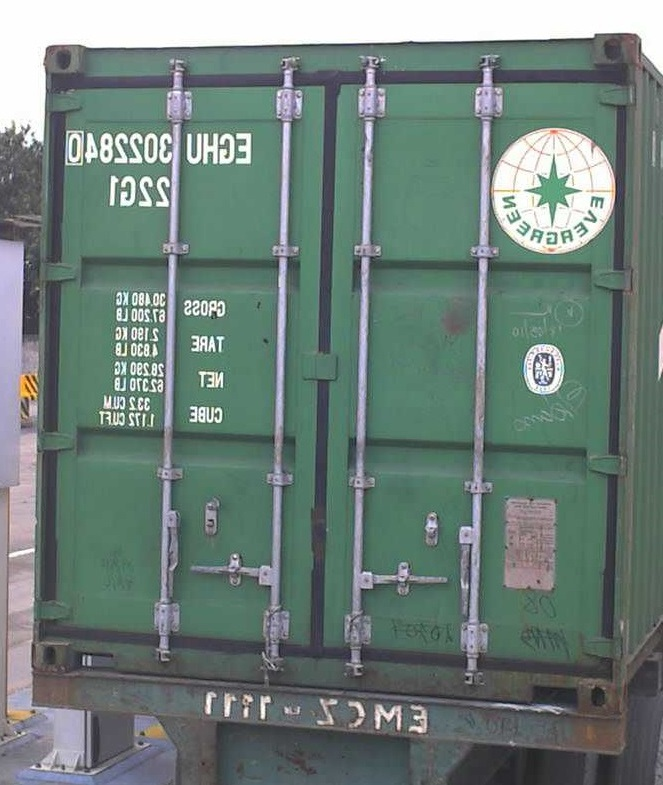container_door: (29, 32, 642, 715)
